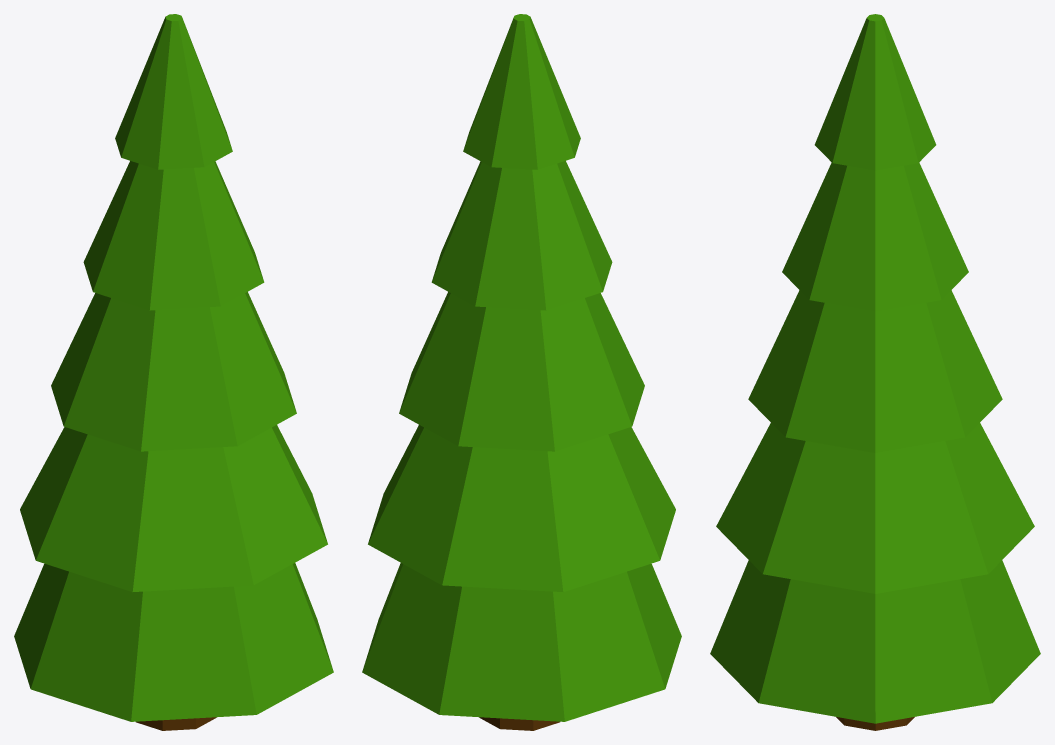
Rendered from pinetree.gltf.
3 views of the same model, side by side, from view 1: azimuth 30°, elevation 25°; view 2: azimuth 150°, elevation 25°; view 3: azimuth 270°, elevation 25° (orthographic).
Visible parts, largest first — view 1: pine_tree_1_.001_Cylinder.000; view 2: pine_tree_1_.001_Cylinder.000; view 3: pine_tree_1_.001_Cylinder.000.
Boxes of the visible parts, left/top/right/bottom form: pine_tree_1_.001_Cylinder.000: left=14, top=14, right=333, bottom=730; pine_tree_1_.001_Cylinder.000: left=362, top=14, right=681, bottom=730; pine_tree_1_.001_Cylinder.000: left=710, top=14, right=1040, bottom=730.
Bounding box in the file's own units: 2.8 × 6.49 × 2.8.
